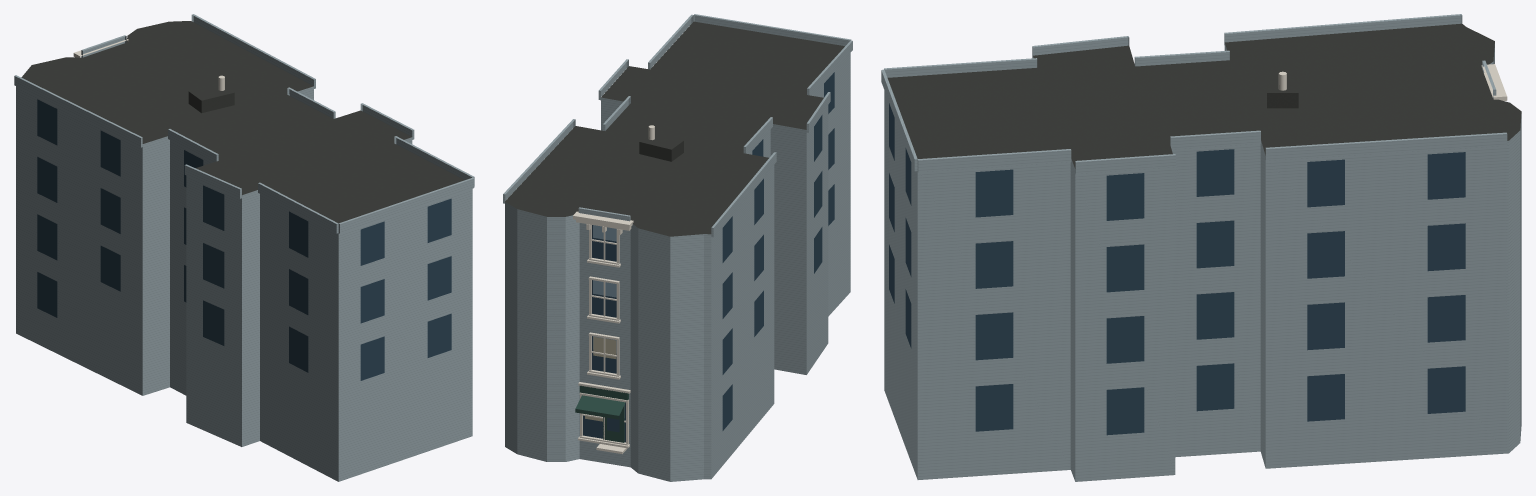
The picture shows the model from 3 angles, left to right: view 1: azimuth 30°, elevation 25°; view 2: azimuth 150°, elevation 25°; view 3: azimuth 270°, elevation 25°; orthographic projection. The views are drawn at different scales.
Visible parts, largest first — view 1: Footprint 0 / surface 2, Footprint 0 / surface 1, Inset glazing, Facade bay volumes; view 2: Footprint 0 / surface 2, Footprint 0 / surface 1, Inset glazing, Facade bay volumes, Cornices and window frames, Storefronts and doors, Sky reflection panels, Interior blind variation, Inferred rooftop service enclosure / surface 6, Inferred rooftop service enclosure / surface 3; view 3: Footprint 0 / surface 2, Footprint 0 / surface 1, Inset glazing, Facade bay volumes.
Boxes of the visible parts, box(x1,y1,x2,y2) form: Footprint 0 / surface 2: box(16, 86, 472, 481); Footprint 0 / surface 1: box(21, 21, 464, 223); Inset glazing: box(37, 99, 451, 380); Facade bay volumes: box(14, 14, 474, 233); Footprint 0 / surface 2: box(505, 53, 850, 481); Footprint 0 / surface 1: box(505, 21, 844, 236); Inset glazing: box(583, 72, 834, 442); Facade bay volumes: box(503, 14, 852, 237); Cornices and window frames: box(573, 211, 633, 454); Storefronts and doors: box(575, 385, 628, 442); Sky reflection panels: box(593, 225, 624, 417); Interior blind variation: box(585, 336, 616, 421); Inferred rooftop service enclosure / surface 6: box(639, 142, 671, 161); Inferred rooftop service enclosure / surface 3: box(639, 133, 683, 149); Footprint 0 / surface 2: box(884, 43, 1521, 481); Footprint 0 / surface 1: box(887, 23, 1521, 168); Inset glazing: box(889, 103, 1465, 435); Facade bay volumes: box(881, 14, 1507, 174).
Size of the model in its own units: 13.31 by 14.39 by 24.3.
